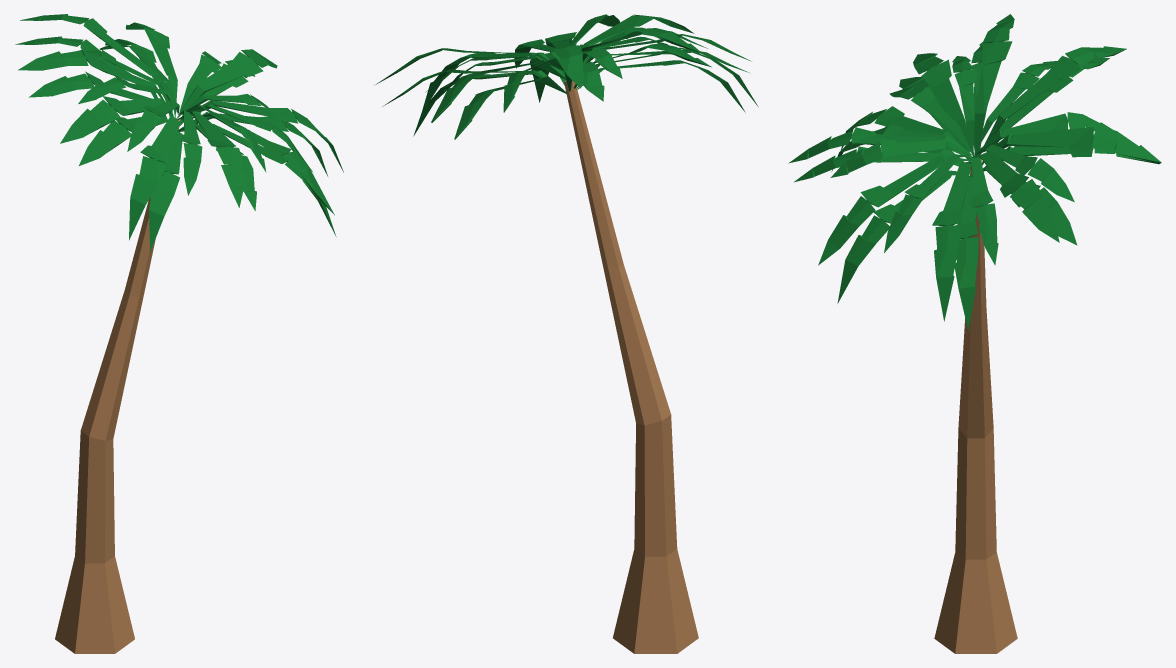
The model's file is Palm_Tree_A.fbx.
The picture shows the model from 3 angles, left to right: view 1: azimuth 30°, elevation 25°; view 2: azimuth 150°, elevation 25°; view 3: azimuth 270°, elevation 25°; orthographic projection. The views are drawn at different scales.
Visible parts, largest first — view 1: Palm_Tree_A; view 2: Palm_Tree_A; view 3: Palm_Tree_A.
Part boxes in pixels (x1,y1,x2,y2): Palm_Tree_A: (15, 14, 343, 653); Palm_Tree_A: (374, 14, 758, 653); Palm_Tree_A: (788, 14, 1161, 653).
Size of the model in its own units: 225 by 419 by 236.
